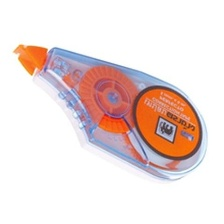correction_fluid: (10, 40, 210, 187)
